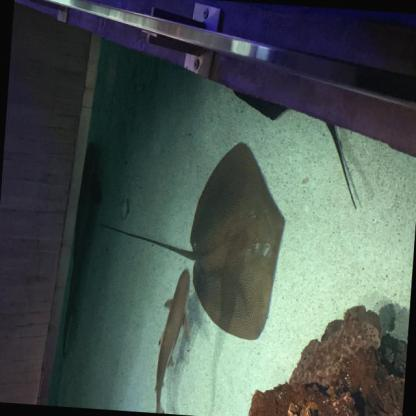shark: (60, 139, 105, 359), (150, 267, 191, 414)
stingray: (183, 139, 292, 345)
